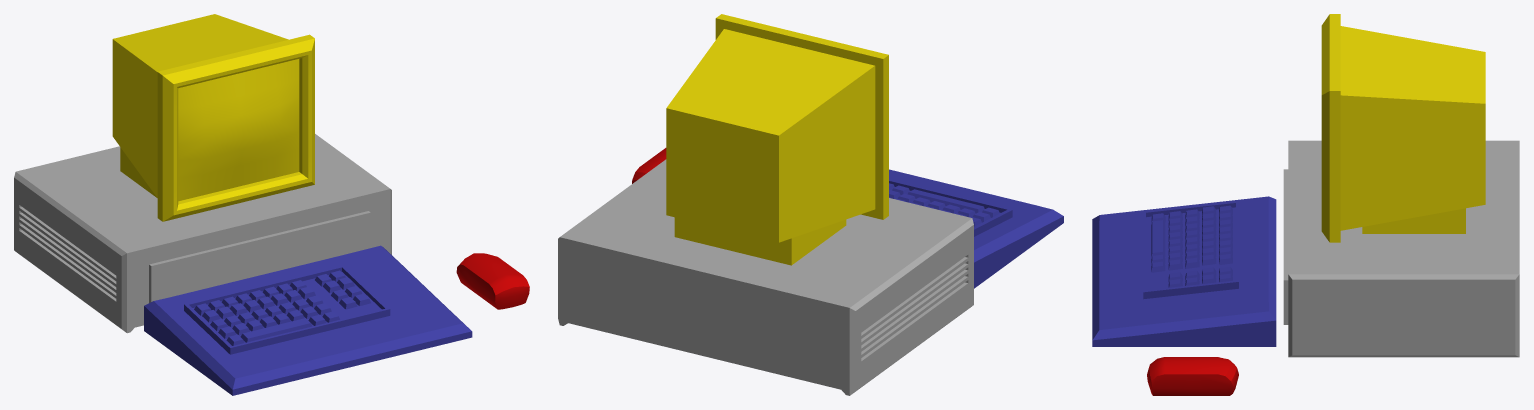
The model's file is PCRecep.fbx.
3 views of the same model, side by side, from view 1: azimuth 30°, elevation 25°; view 2: azimuth 150°, elevation 25°; view 3: azimuth 270°, elevation 25° (orthographic). The views are drawn at different scales.
Parts seen in each view (by area): view 1: cpu, monitor2, teclas2, mouse; view 2: cpu, monitor2, teclas2; view 3: cpu, monitor2, teclas2, mouse.
Boxes of the visible parts, x1,y1,x2,y2 form: cpu: (14,134,391,333); monitor2: (112,14,314,221); teclas2: (144,245,472,395); mouse: (456,253,529,309); cpu: (558,159,973,395); monitor2: (666,14,888,265); teclas2: (889,169,1063,288); cpu: (1283,140,1519,357); monitor2: (1321,14,1485,242); teclas2: (1092,196,1276,346); mouse: (1147,357,1238,395).
Bounding box in the file's own units: 2.49 × 1.62 × 2.6.
